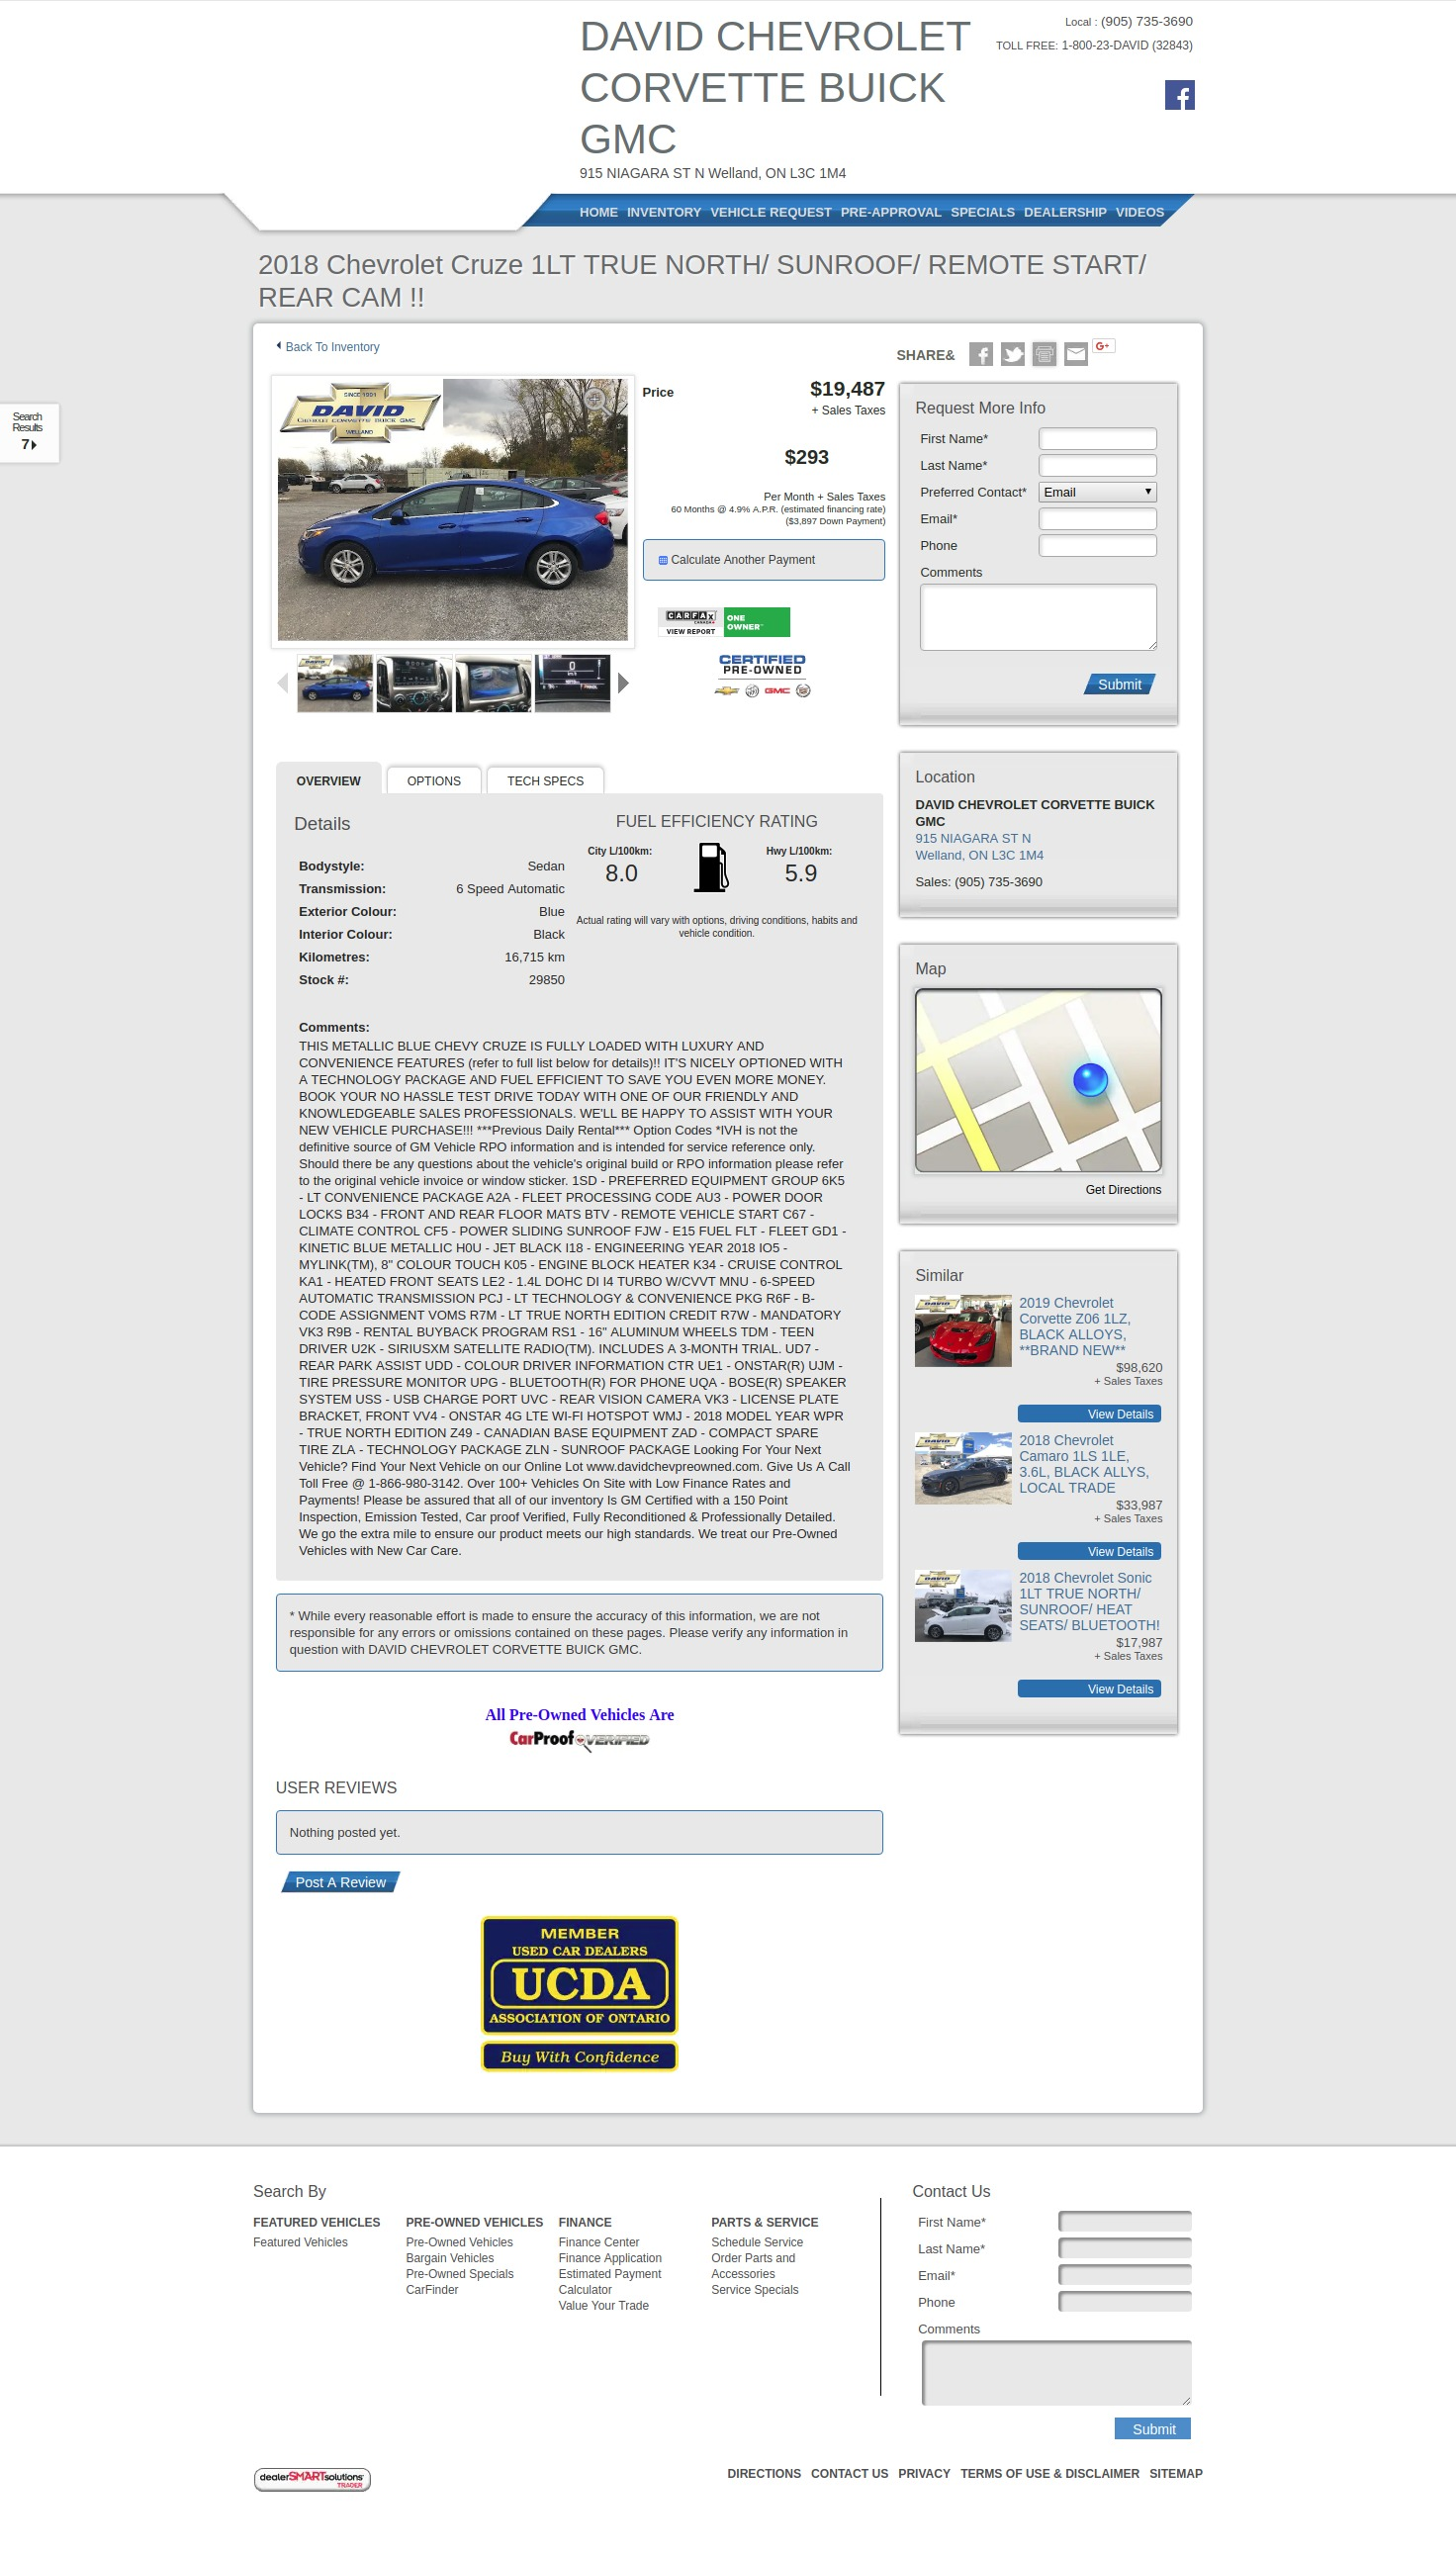car: (618, 671, 631, 695)
